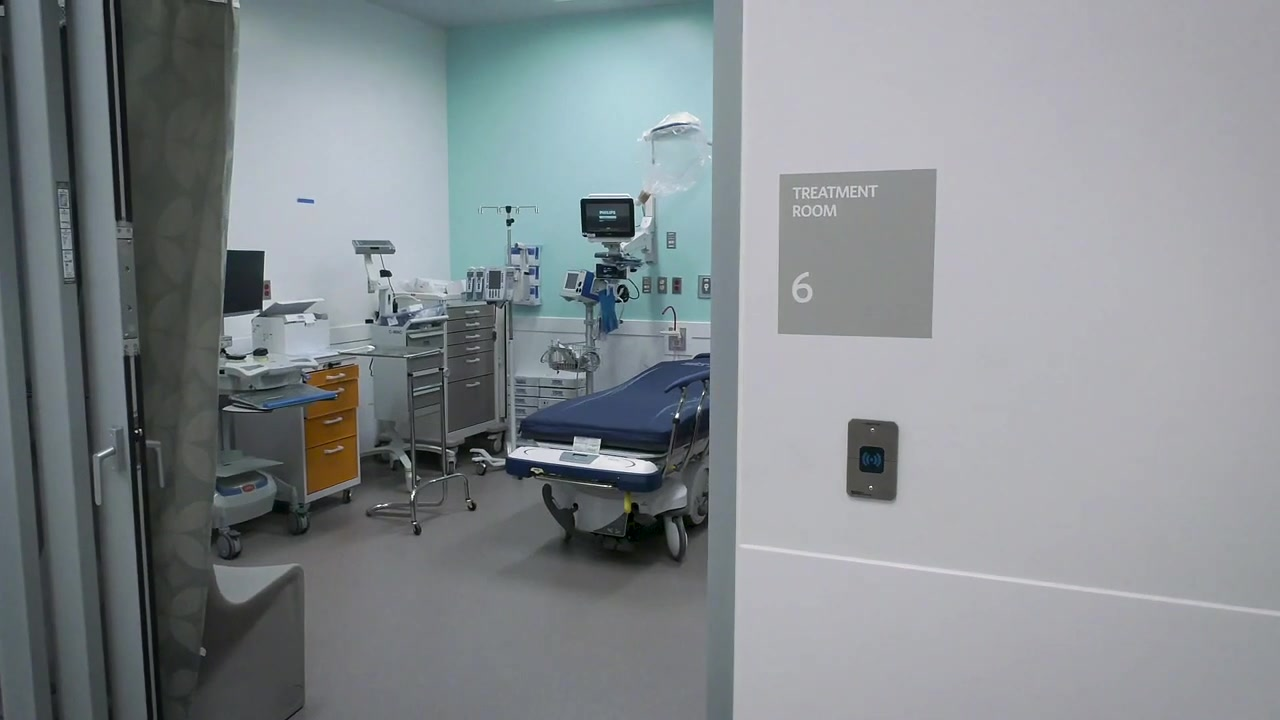bedrail: (662, 369, 710, 480)
bedside_monitor: (580, 197, 635, 239), (561, 270, 586, 297)
computer: (223, 250, 265, 317)
curtain: (120, 1, 240, 720)
door_handle: (92, 426, 127, 506), (145, 440, 165, 488)
handle: (324, 445, 344, 455), (322, 417, 343, 424), (326, 373, 346, 380), (466, 382, 480, 388), (465, 334, 480, 339), (466, 358, 480, 363), (466, 346, 480, 351), (466, 322, 480, 327), (465, 310, 480, 314)
infusion_pump: (466, 266, 516, 301)
iv_pole: (470, 204, 539, 476)
medical_drawer: (378, 300, 508, 467), (233, 352, 361, 503), (365, 313, 450, 490)
mouse: (253, 347, 269, 356)
operating_bed: (525, 337, 712, 544)
overbed_table: (338, 347, 477, 536)
